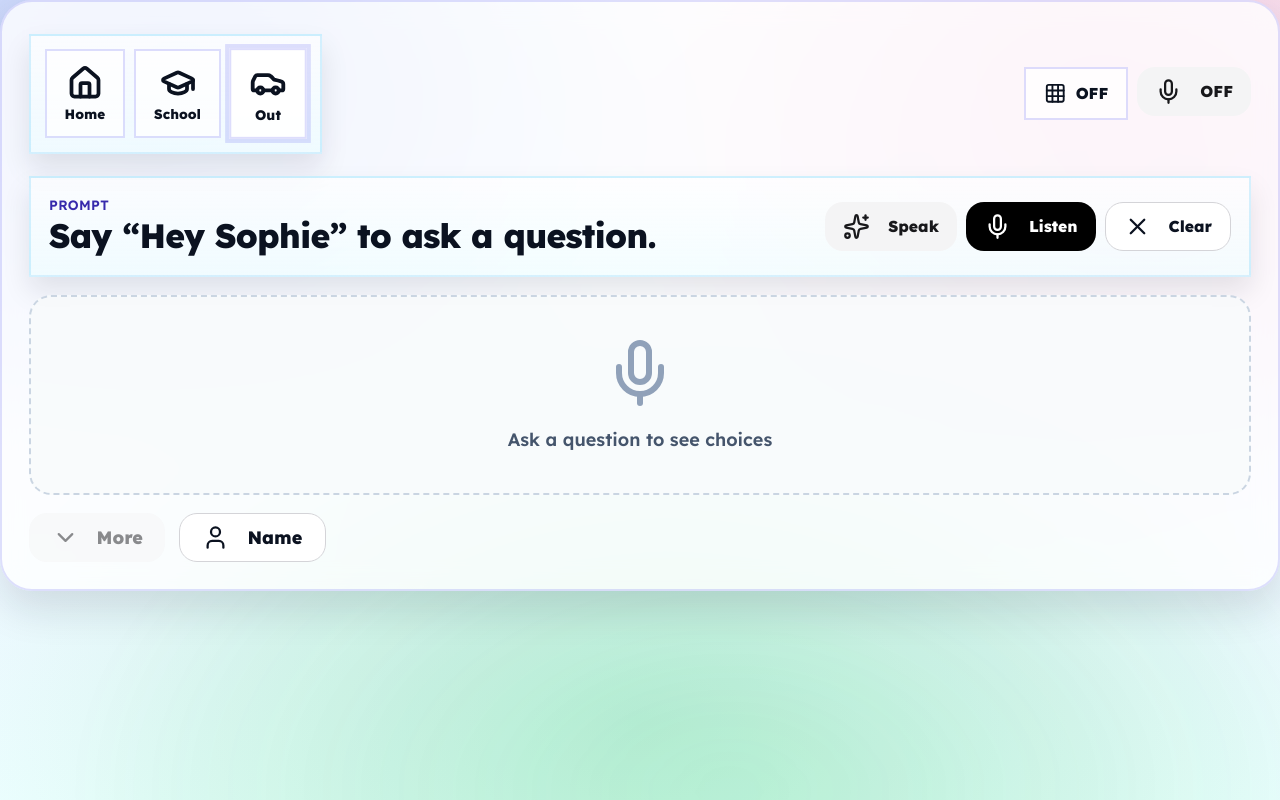
Test: change name button returns to onboarding
The width and height of the screenshot is (1280, 800).
Click the button with aria-label "change name" at (252, 537), box [179, 513, 326, 562]
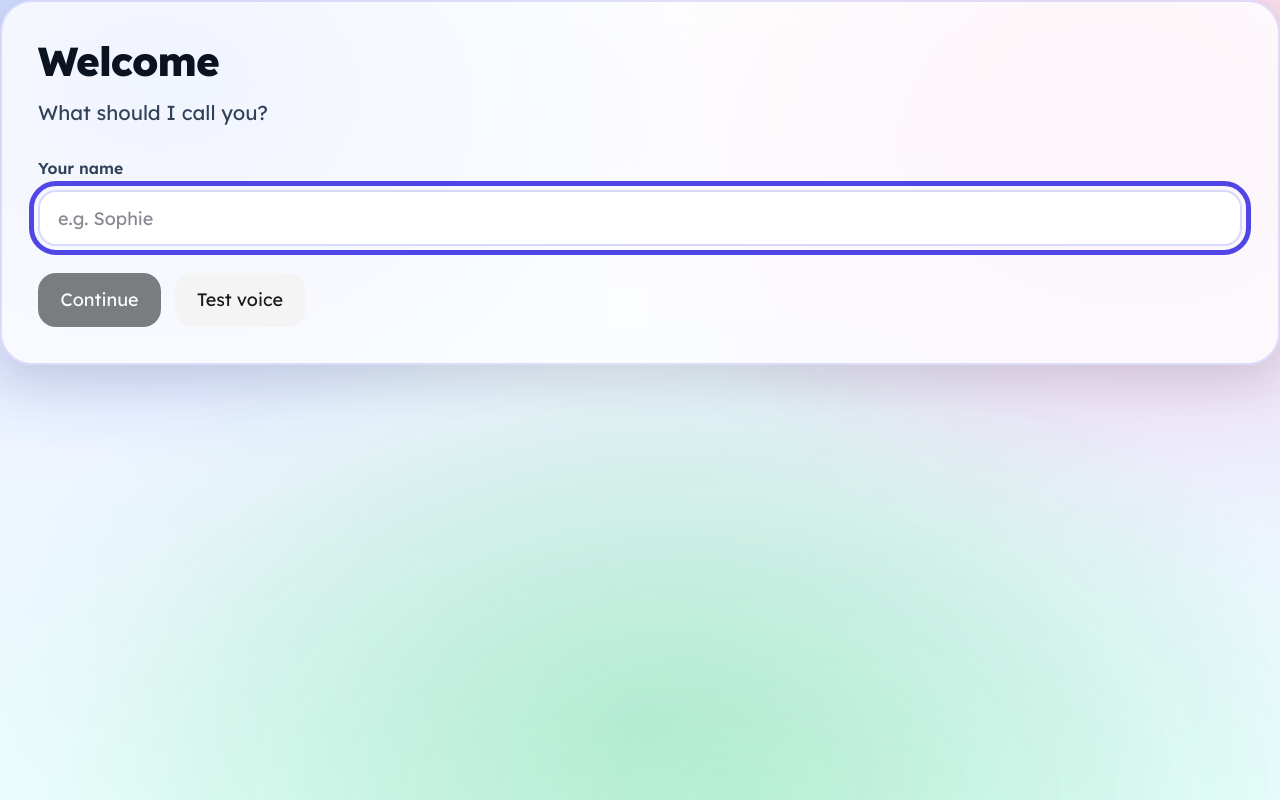
Expected: the text "What should I call you?" is shown, [38, 100, 268, 124]
